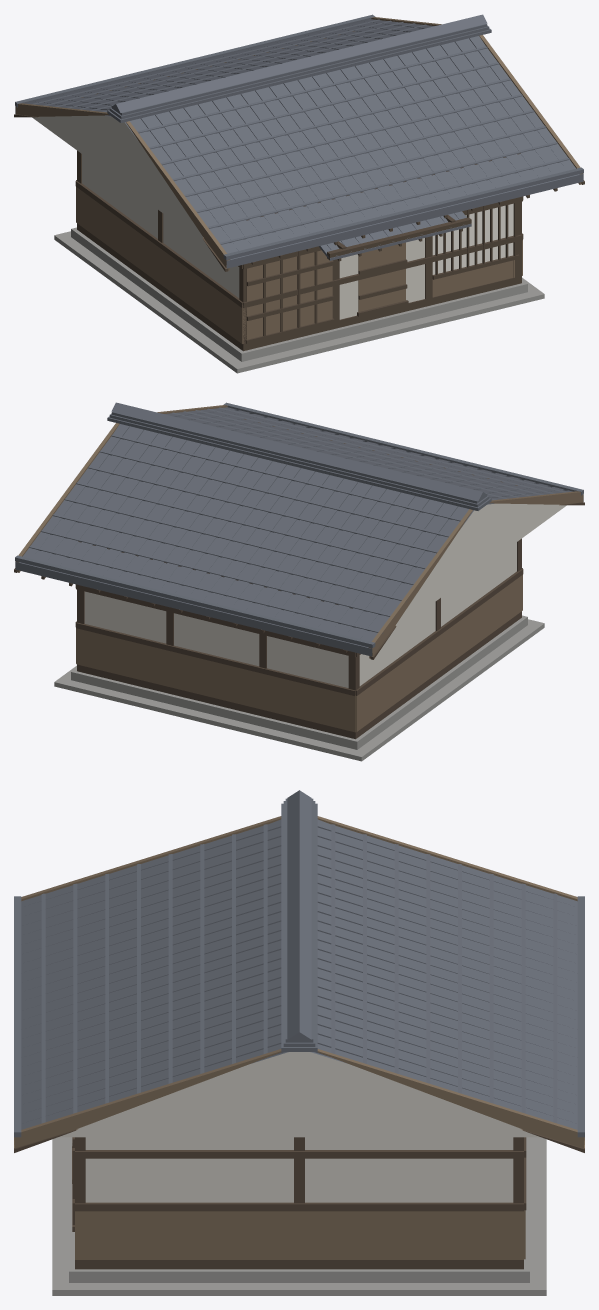
File: machiya_pilot_silhouette_quiet_01.glb
3 renders of one model, top to bottom at view 1: azimuth 30°, elevation 25°; view 2: azimuth 150°, elevation 25°; view 3: azimuth 270°, elevation 25°, orthographic. The views are drawn at different scales.
Visible parts, largest first — view 1: machiya_pilot_silhouette_quiet_01; view 2: machiya_pilot_silhouette_quiet_01; view 3: machiya_pilot_silhouette_quiet_01.
Boxes of the visible parts, <box> form: machiya_pilot_silhouette_quiet_01: <box>14,14,584,373</box>; machiya_pilot_silhouette_quiet_01: <box>14,402,584,761</box>; machiya_pilot_silhouette_quiet_01: <box>14,790,584,1295</box>.
Bounding box in the file's own units: 7.98 × 4.32 × 7.88.
